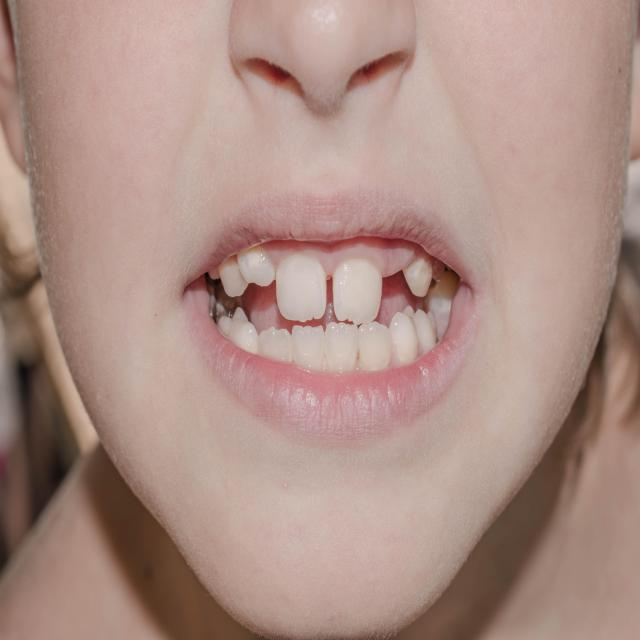Tooth: (276, 253, 327, 322), (332, 258, 382, 325), (358, 321, 392, 371), (324, 322, 358, 372), (237, 245, 276, 287), (402, 305, 437, 351), (291, 325, 325, 371), (389, 312, 418, 364), (402, 256, 434, 297), (257, 326, 293, 362), (217, 258, 249, 298), (227, 318, 259, 353)
